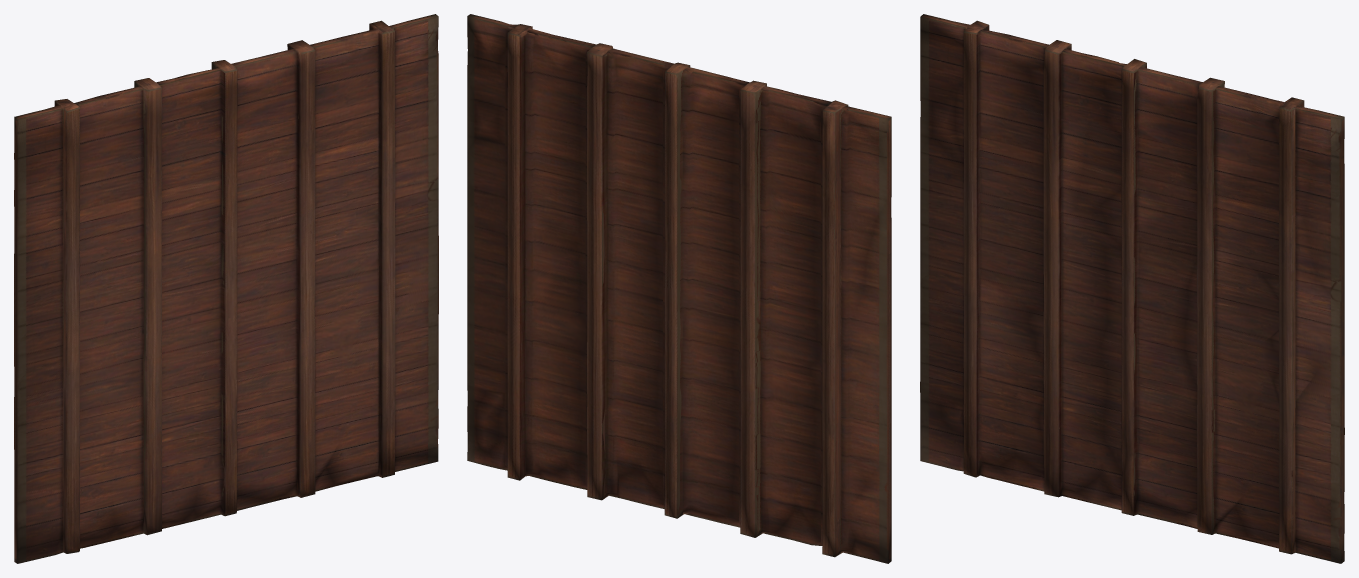
File: Rustic Wood Ceiling.glb
3 renders of one model, left to right at view 1: azimuth 30°, elevation 25°; view 2: azimuth 150°, elevation 25°; view 3: azimuth 330°, elevation 25°, orthographic.
Bounding box in the file's own units: 1.89 × 1.91 × 0.1023.
1 material, 1 textured.
